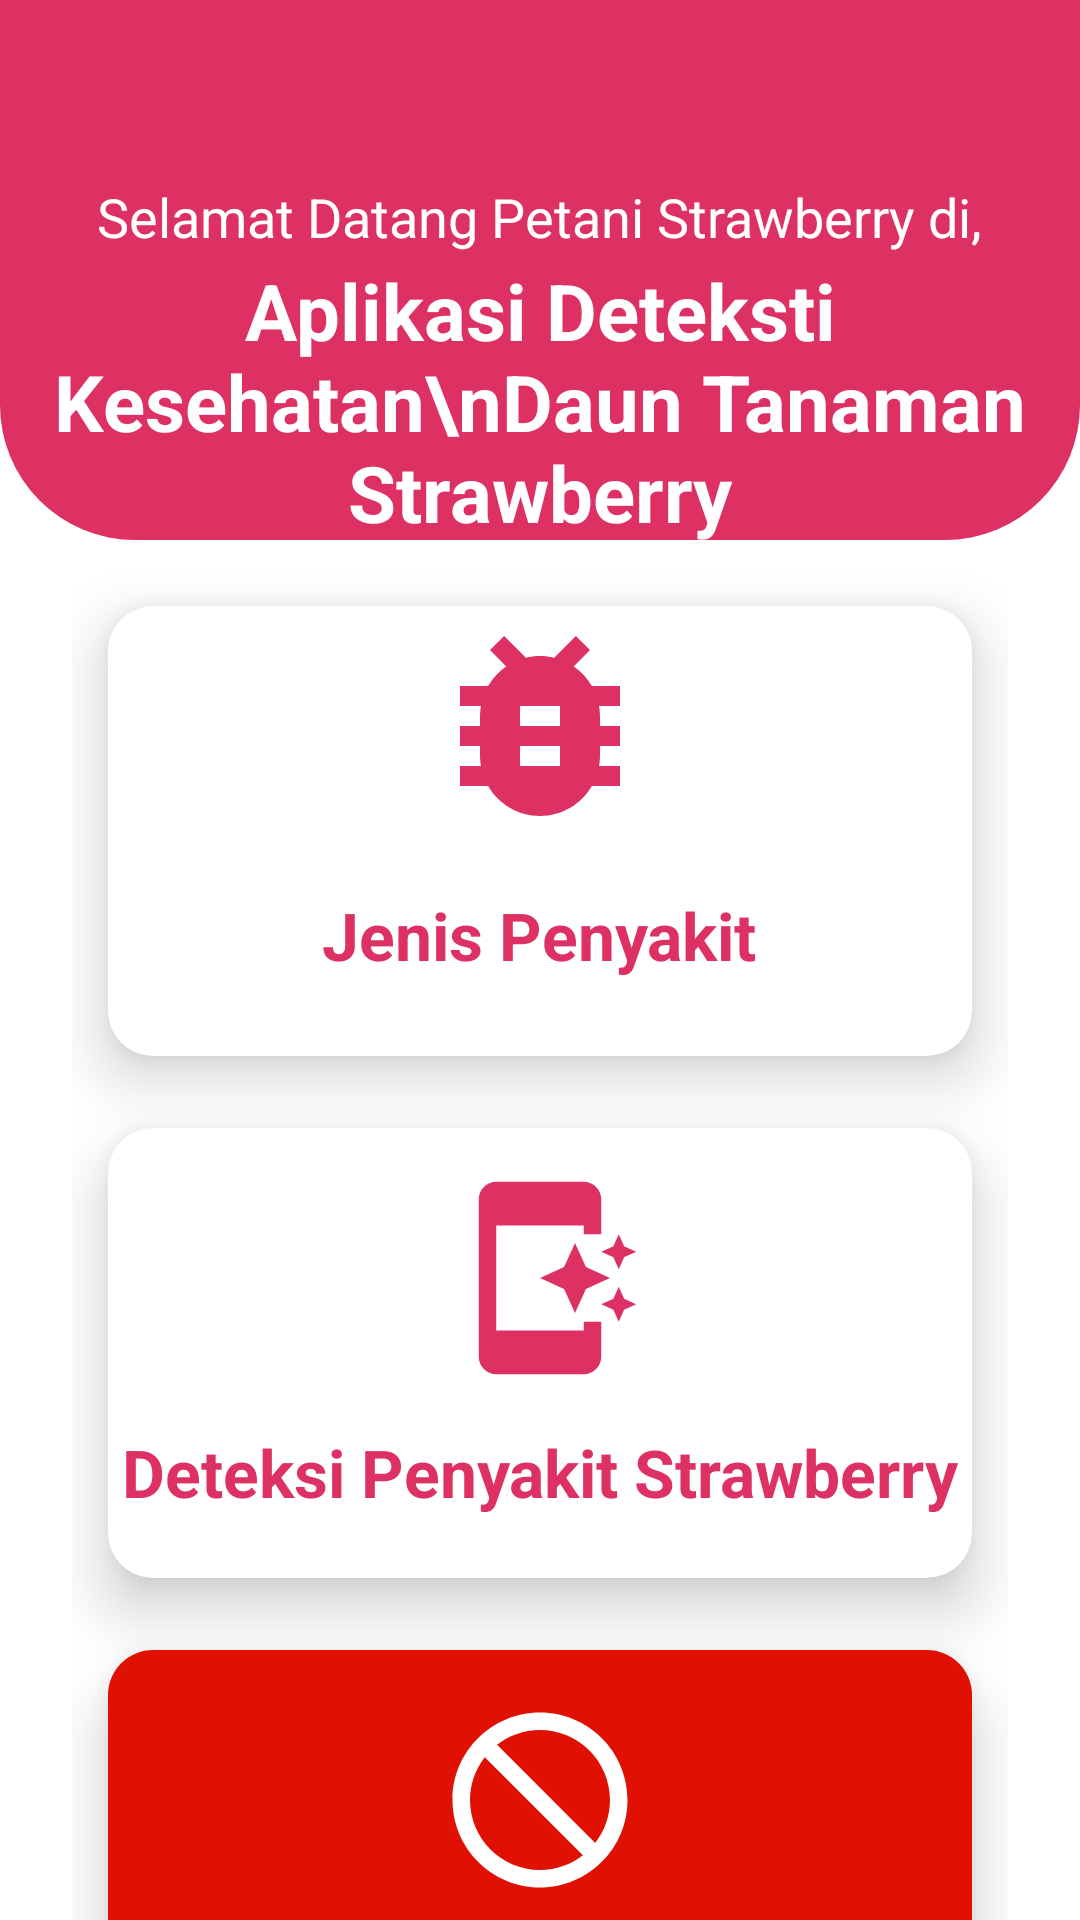

Point at icon controls on the screen. Image size 1080w x 1920h, points as [x,y].
bug report: [540,726]
do disturb: [540,1800]
shortcut: [557,1278]
